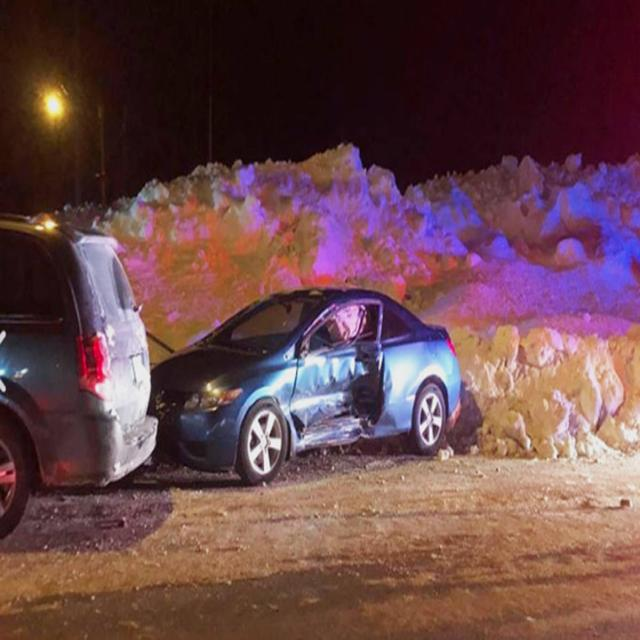Accident: (0, 202, 461, 540)
